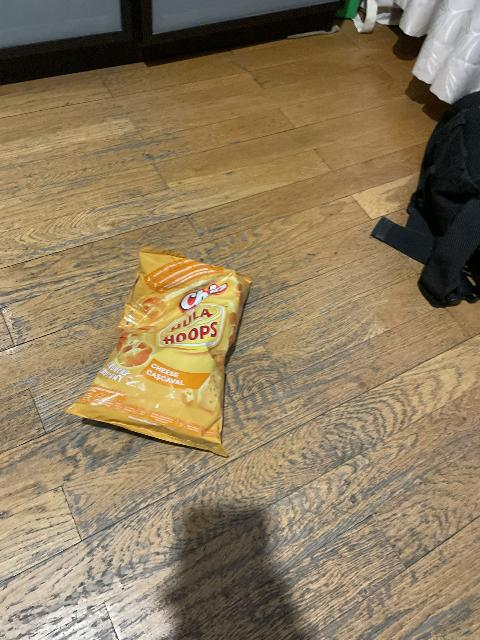Chio Hula Hoops Cheese 70g: (69, 251, 258, 455)
